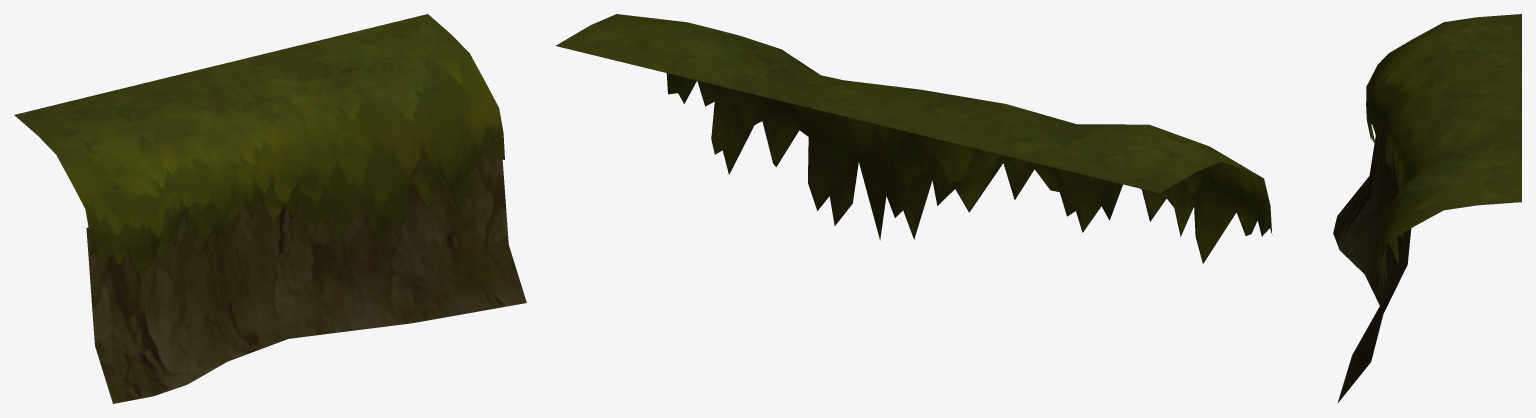
The model's file is lumina_trim_base4_p1_01.FBX.
3 views of the same model, side by side, from view 1: azimuth 30°, elevation 25°; view 2: azimuth 150°, elevation 25°; view 3: azimuth 270°, elevation 25° (orthographic). The views are drawn at different scales.
Parts seen in each view (by area): view 1: lumina_trim_base4_p1_01; view 2: lumina_trim_base4_p1_01; view 3: lumina_trim_base4_p1_01.
Part boxes in pixels (x1,y1,x2,y2): lumina_trim_base4_p1_01: (14, 14, 526, 403); lumina_trim_base4_p1_01: (556, 14, 1272, 263); lumina_trim_base4_p1_01: (1333, 14, 1521, 403).
Size of the model in its own units: 4 by 2.01 by 1.7.
